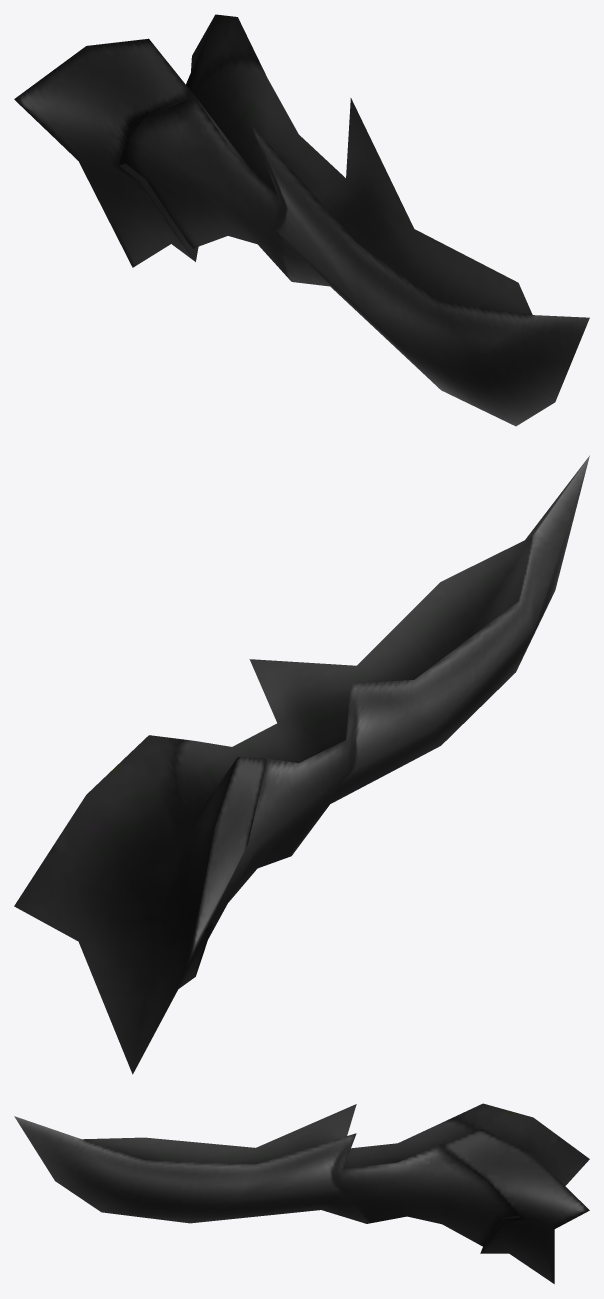
3 views of the same model, one above another, from view 1: azimuth 30°, elevation 25°; view 2: azimuth 150°, elevation 25°; view 3: azimuth 270°, elevation 25° (orthographic). The views are drawn at different scales.
Visible parts, largest first — view 1: mSaya; view 2: mSaya; view 3: mSaya.
Boxes of the visible parts, <box> form: mSaya: <box>14,14,589,426</box>; mSaya: <box>14,455,589,1074</box>; mSaya: <box>14,1103,589,1283</box>.
Bounding box in the file's own units: 0.1427 × 0.2184 × 0.6764.
Materials: 1 (1 with a texture image).
